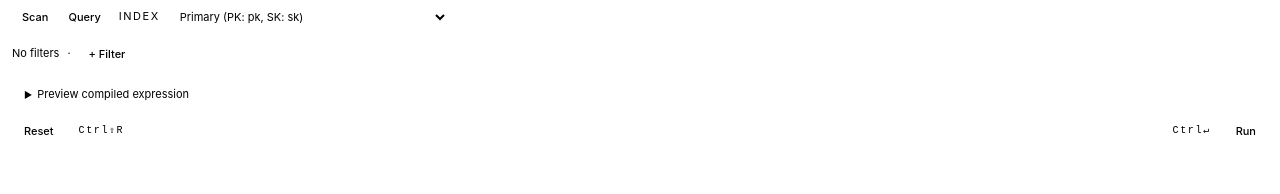
Test case: QueryBuilder › Preview disclosure › expands on toggle click
The width and height of the screenshot is (1280, 194).
Click the button with test id "preview-toggle" at (113, 94), box [12,82,1268,106]
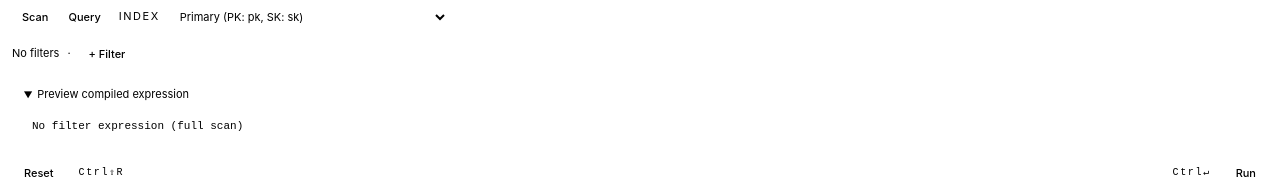
Now the element with test id "preview-body" is shown, box [32,120,243,132]
